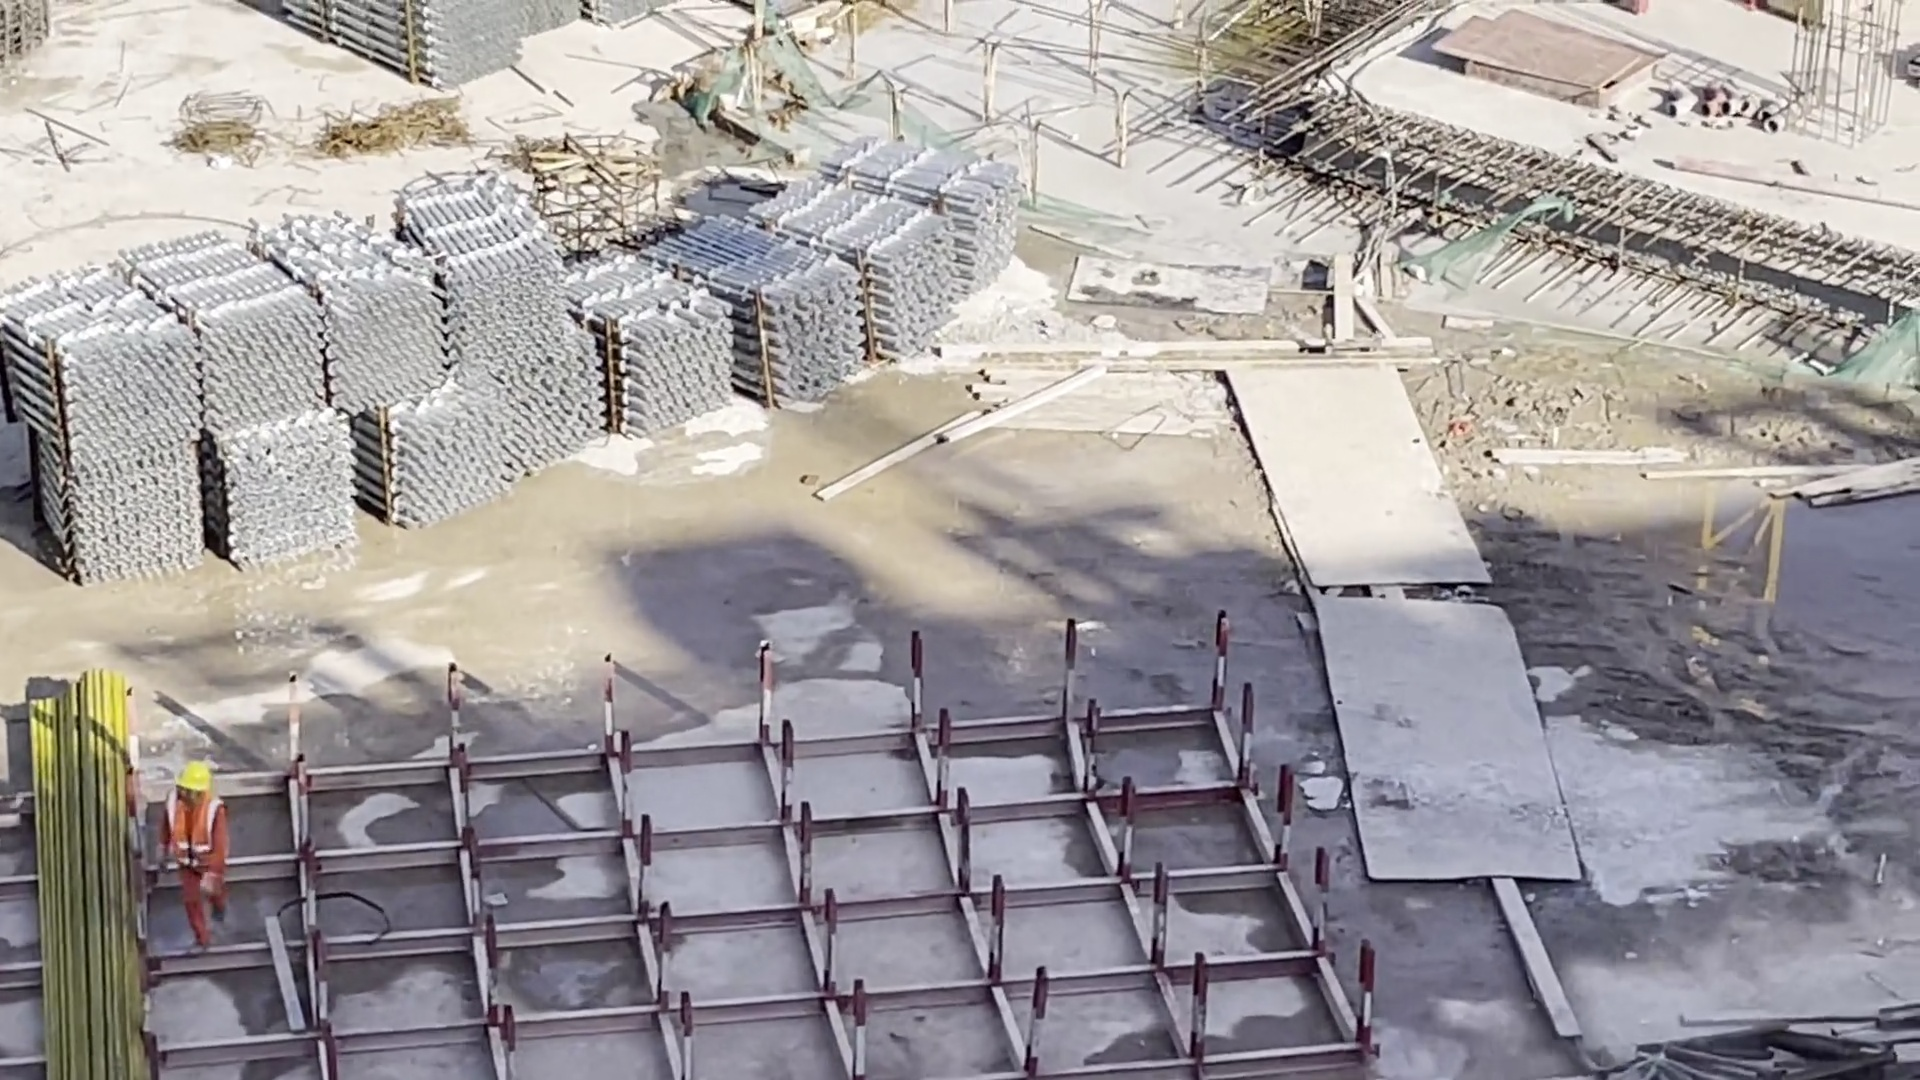board: (1410, 15, 1669, 101)
helmet: (155, 763, 220, 803)
person: (149, 750, 246, 951)
scaffold: (1, 120, 1019, 582)
vest: (162, 793, 233, 873)
